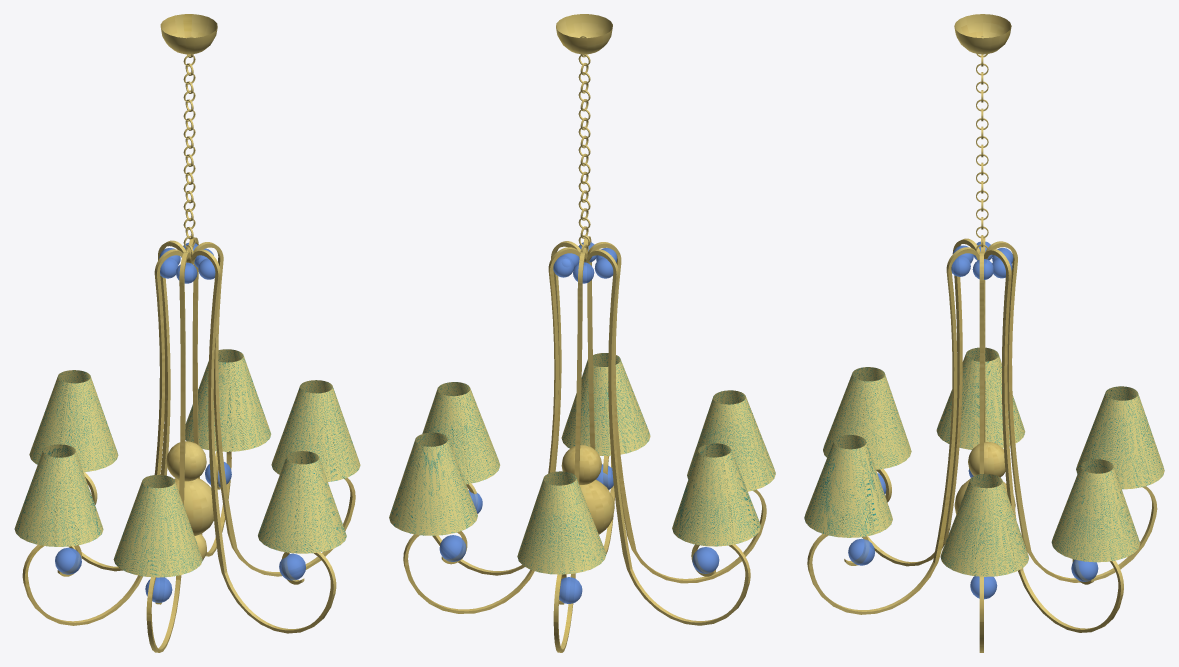
File: ceilinglamp.dae
The picture shows the model from 3 angles, left to right: view 1: azimuth 30°, elevation 25°; view 2: azimuth 150°, elevation 25°; view 3: azimuth 270°, elevation 25°; orthographic projection.
Parts seen in each view (by area): view 1: Group1; view 2: Group1; view 3: Group1.
Part boxes in pixels (box(x1,y1,x2,y2)): Group1: box(14, 14, 360, 652); Group1: box(389, 14, 775, 652); Group1: box(804, 14, 1164, 652).
Size of the model in its own units: 61.6 by 57.42 by 100.
5 materials, 3 textured.
